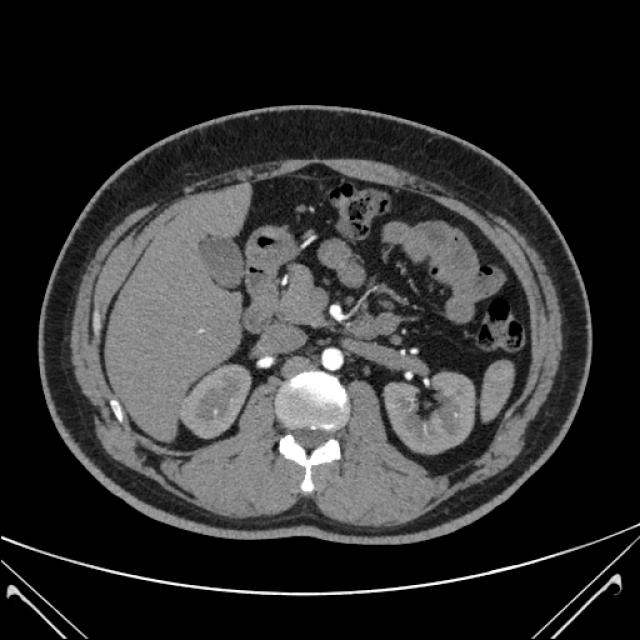Kidney: (39, 90, 556, 545)
